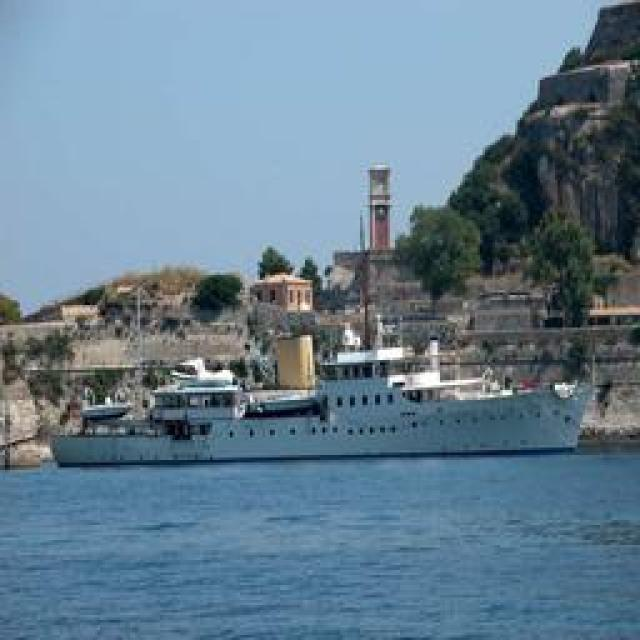ship2: (43, 329, 590, 471)
